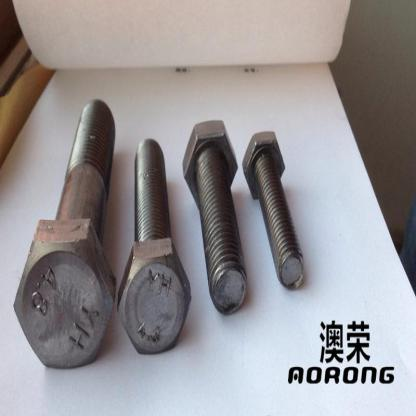FOD: (12, 100, 117, 368), (117, 134, 192, 358), (181, 119, 249, 315), (242, 127, 306, 292)
